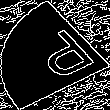P_SE: (15, 24, 95, 86)
